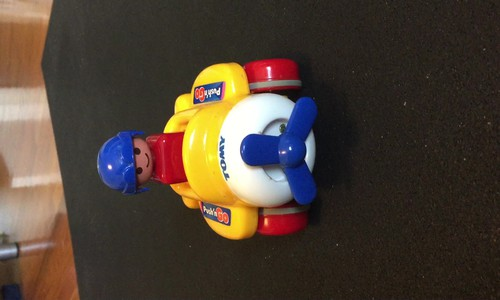toy: (91, 59, 325, 241)
